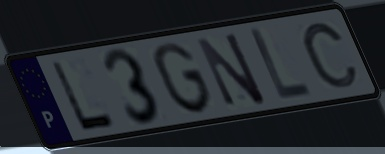3: (103, 46, 163, 127)
C: (301, 21, 361, 91)
G: (151, 39, 216, 116)
L: (47, 58, 121, 133), (246, 25, 316, 102)
N: (193, 29, 271, 109)
